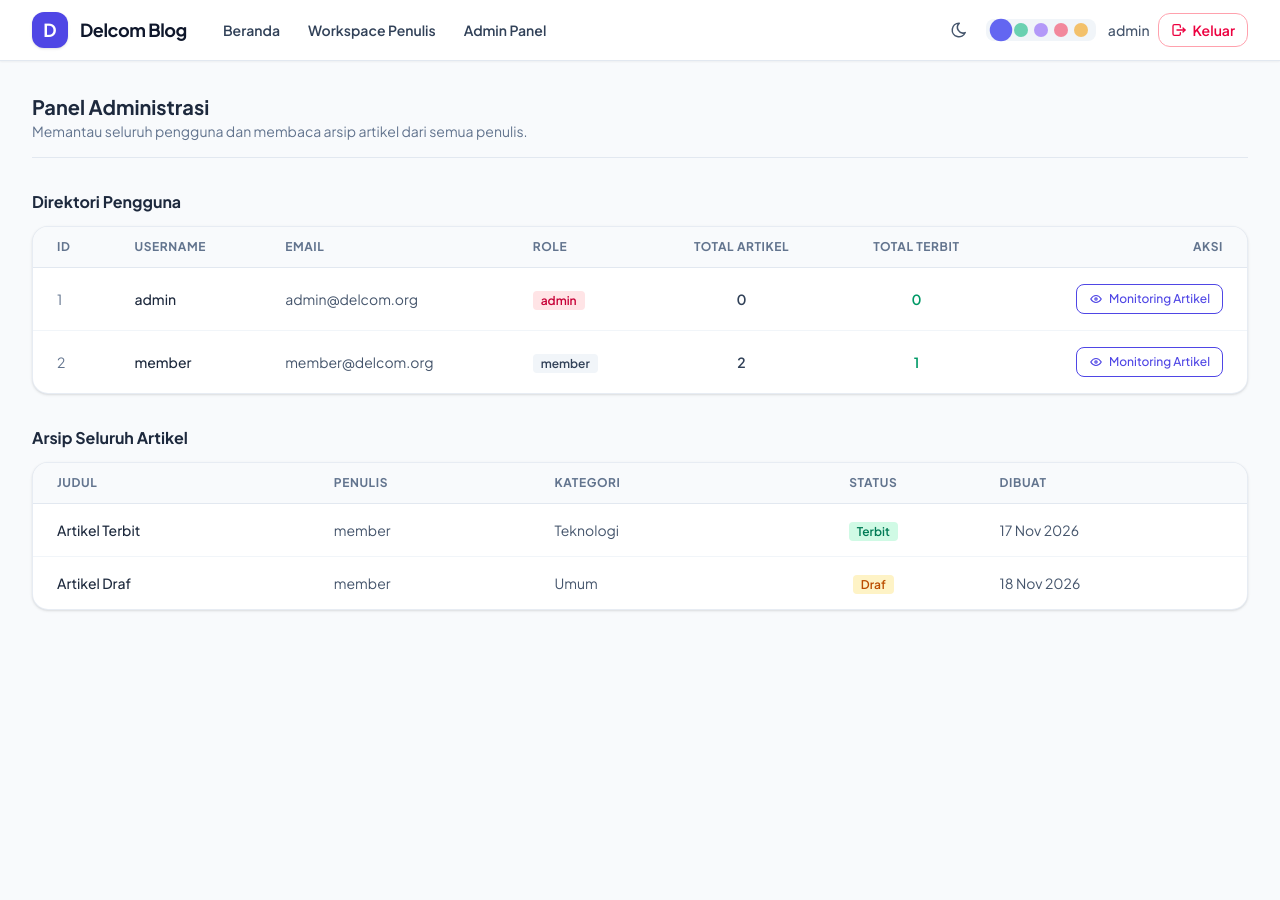
Test: App › panel admin › menampilkan direktori pengguna dan arsip artikel serta memonitor pengguna
Check: the element with test id "admin-dashboard" is shown, box [32, 93, 1248, 610]
Check: the text "member@delcom.org" is shown, box [261, 330, 509, 393]
Click the button with aria-label "Monitoring Artikel member". click: (1150, 362)
box: [1076, 347, 1223, 377]
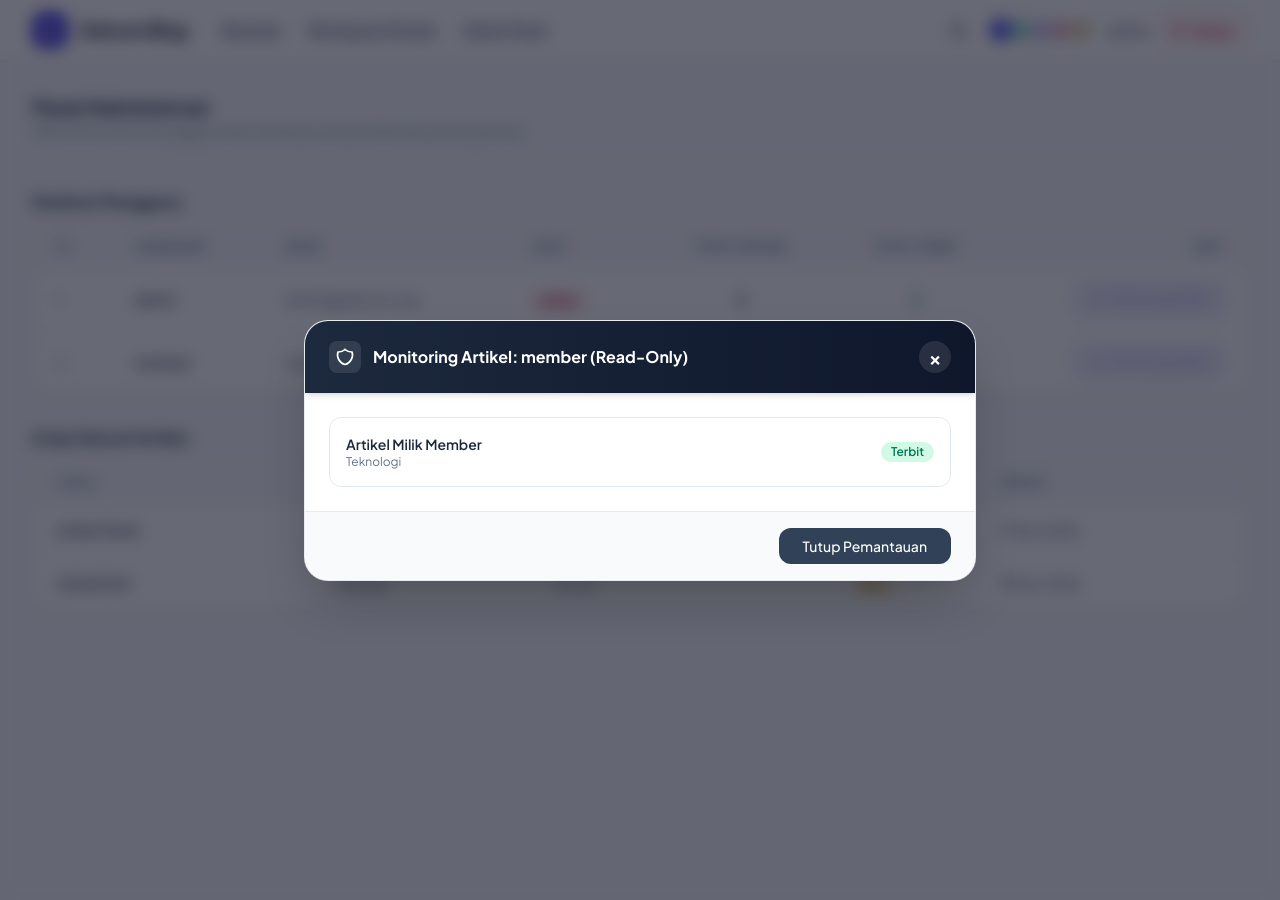
Check: the text "Artikel Milik Member" is shown, box [346, 434, 482, 454]
